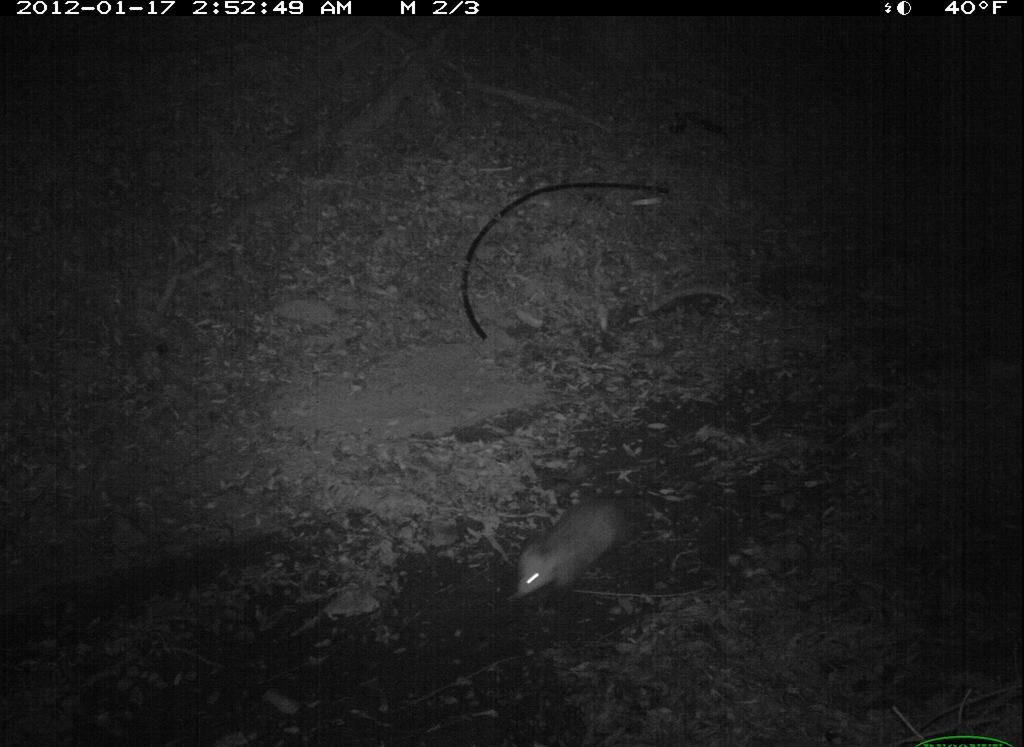opossum: (493, 484, 671, 623)
